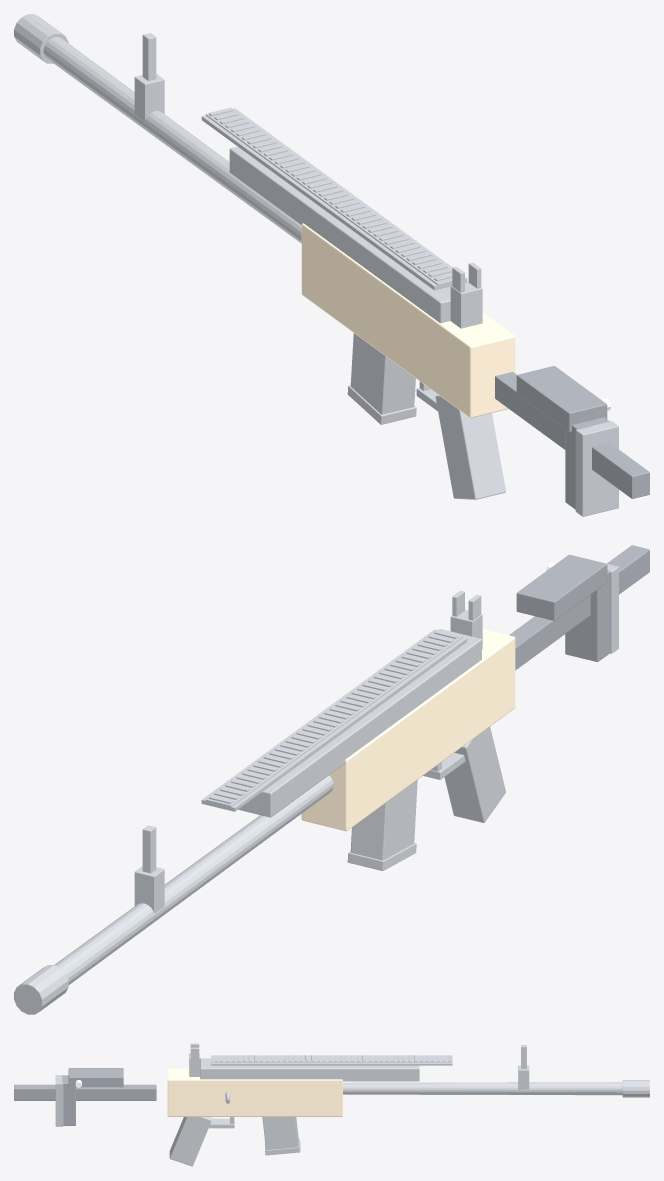
The picture shows the model from 3 angles, top to bottom: view 1: azimuth 30°, elevation 25°; view 2: azimuth 150°, elevation 25°; view 3: azimuth 270°, elevation 25°; orthographic projection. The views are drawn at different scales.
Parts seen in each view (by area): view 1: Receiver, TopRail, Handguard, Barrel, Grip, mag, StockTop, StockIrons, CheekRest, ButtPad, FlashHider, StockPlate; view 2: Receiver, TopRail, Barrel, Handguard, mag, Grip, CheekRest, StockTop, StockIrons, StockPlate, FlashHider, ButtPad; view 3: Receiver, Barrel, Handguard, TopRail, StockTop, Grip, mag, CheekRest, StockIrons, StockPlate, FlashHider, ButtPad (+1 smaller).
Boxes of the visible parts, x1,y1,x2,y2 form: Receiver: [301, 223, 515, 417]; TopRail: [201, 107, 467, 290]; Handguard: [229, 146, 450, 323]; Barrel: [43, 37, 301, 243]; Grip: [435, 395, 505, 499]; mag: [347, 333, 416, 424]; StockTop: [495, 372, 649, 498]; StockIrons: [134, 33, 482, 328]; CheekRest: [516, 366, 607, 431]; ButtPad: [575, 421, 618, 516]; FlashHider: [14, 14, 68, 63]; StockPlate: [565, 417, 609, 509]; Receiver: [301, 629, 515, 831]; TopRail: [201, 629, 467, 811]; Barrel: [54, 775, 333, 984]; Handguard: [238, 629, 481, 817]; mag: [347, 780, 417, 870]; Grip: [444, 727, 505, 822]; CheekRest: [516, 554, 607, 620]; StockTop: [509, 545, 649, 670]; StockIrons: [134, 590, 482, 913]; StockPlate: [565, 570, 609, 661]; FlashHider: [14, 965, 68, 1014]; ButtPad: [607, 564, 618, 653]; Receiver: [167, 1068, 342, 1116]; Barrel: [343, 1082, 622, 1095]; Handguard: [200, 1058, 419, 1081]; TopRail: [211, 1055, 452, 1065]; StockTop: [14, 1084, 156, 1100]; Grip: [169, 1117, 211, 1166]; mag: [262, 1117, 300, 1155]; CheekRest: [68, 1068, 123, 1087]; StockIrons: [189, 1043, 529, 1089]; StockPlate: [62, 1075, 75, 1125]; FlashHider: [622, 1080, 649, 1097]; ButtPad: [55, 1075, 63, 1126].
Bounding box in the file's own units: 0.0663 × 0.2351 × 1.16.
